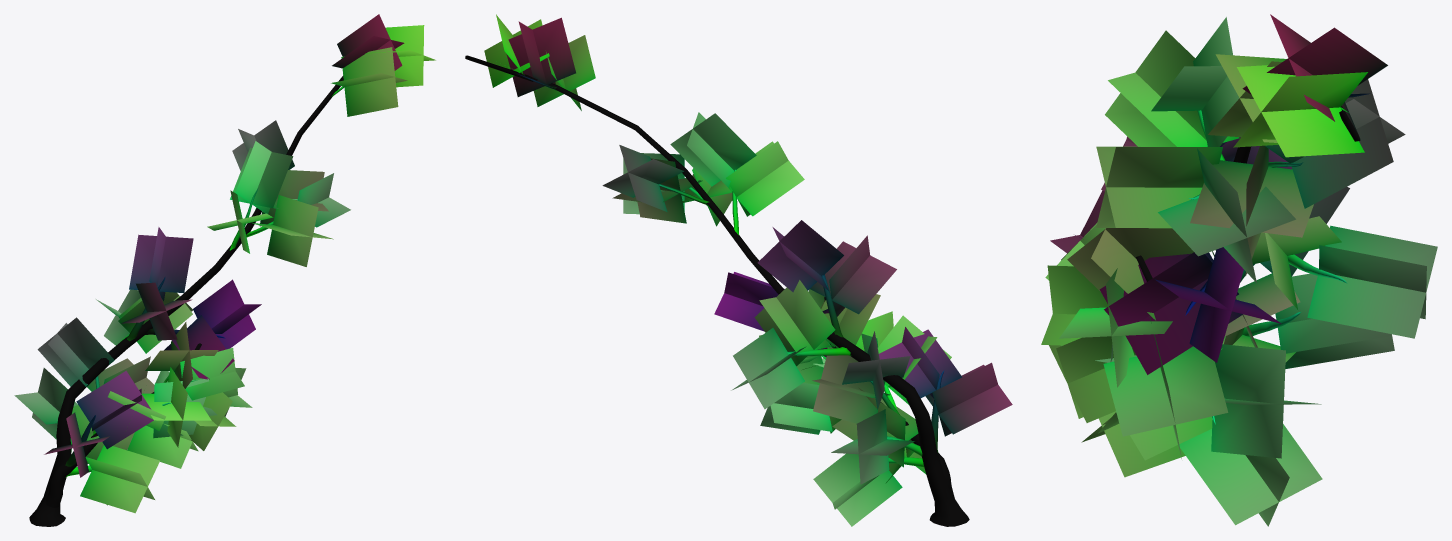
The model's file is M_P5_Tree_11.fbx.
The picture shows the model from 3 angles, left to right: view 1: azimuth 30°, elevation 25°; view 2: azimuth 150°, elevation 25°; view 3: azimuth 270°, elevation 25°; orthographic projection. The views are drawn at different scales.
Parts seen in each view (by area): view 1: Tree_11; view 2: Tree_11; view 3: Tree_11.
Part boxes in pixels (<box>): Tree_11: <box>14,14,435,526</box>; Tree_11: <box>465,14,1012,526</box>; Tree_11: <box>1041,14,1437,526</box>.
Size of the model in its own units: 724 by 642 by 302.
